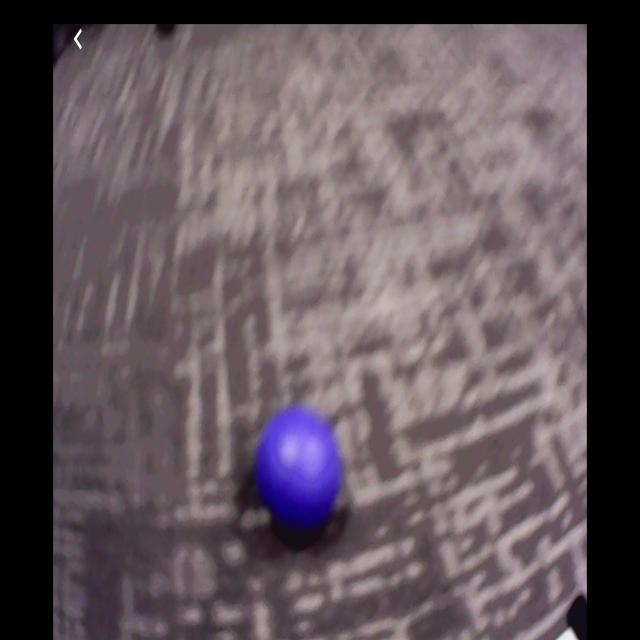ball: (254, 399, 344, 526)
